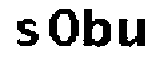0: (43, 6, 81, 49)
b: (83, 5, 113, 48)
s: (12, 17, 38, 48)
u: (116, 14, 148, 49)
